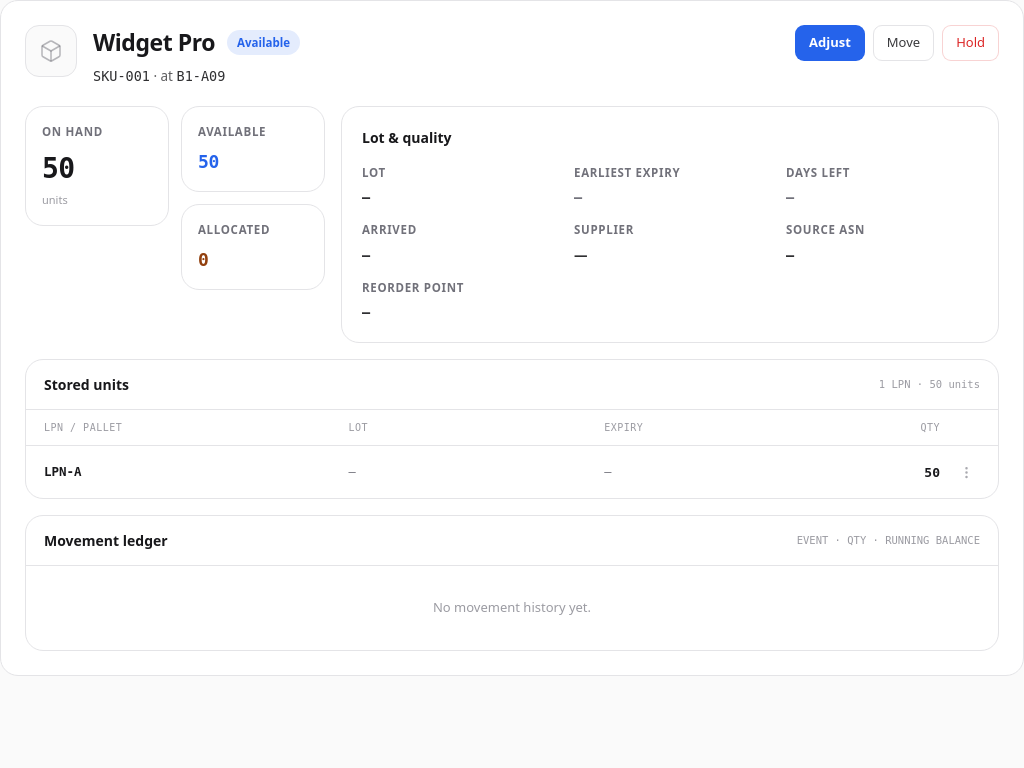
Test: InventoryDetail — unit-load actions (change owner / carrier) › does not offer an INACTIVE client as a change-owner target
The image size is (1024, 768).
What coordinates should you click on to do the following:
click the button named "unit load actions"
I would click on:
 (966, 472)
Its box is x1=952 y1=458 x2=980 y2=486.
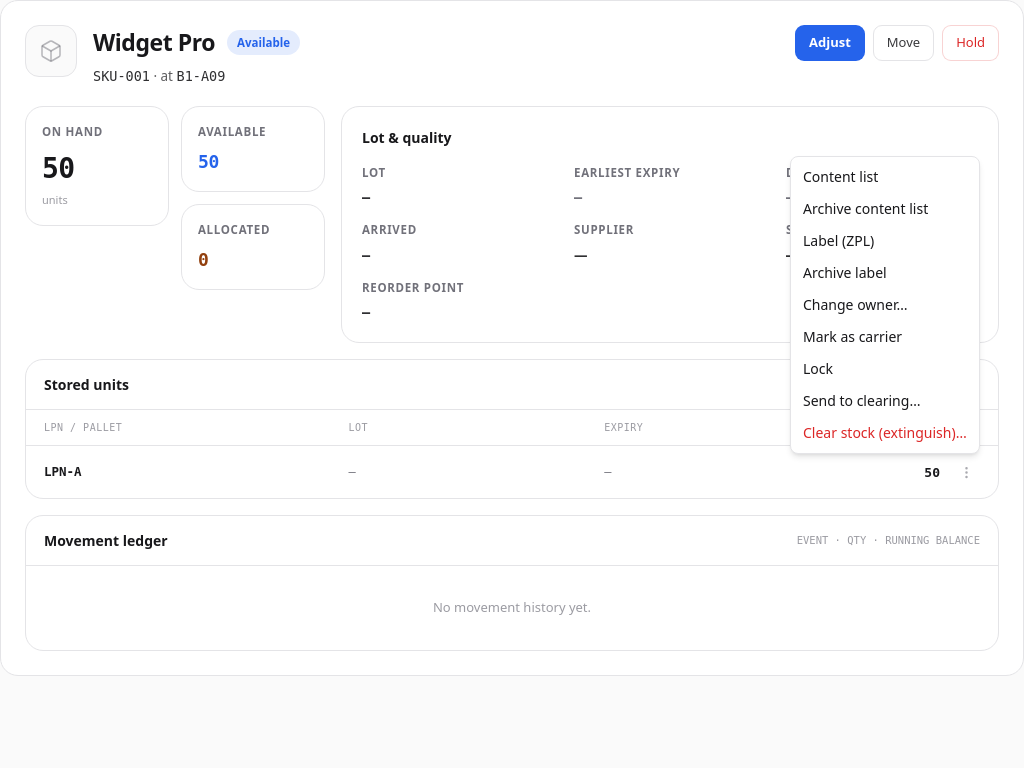
What coordinates should you click on to do the following:
click the menu item "Change owner…"
I would click on:
 (855, 304)
Its box is x1=803 y1=295 x2=908 y2=314.
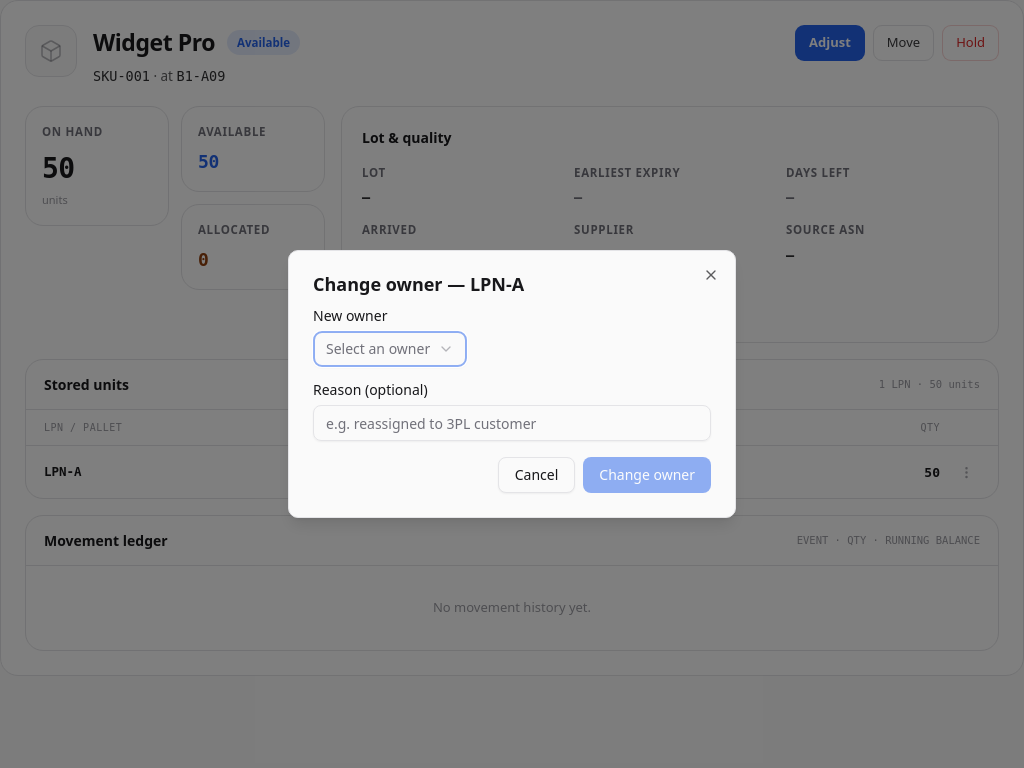
What coordinates should you click on to do the following:
click the dropdown
I would click on:
 (390, 349)
Its box is x1=313 y1=331 x2=467 y2=367.
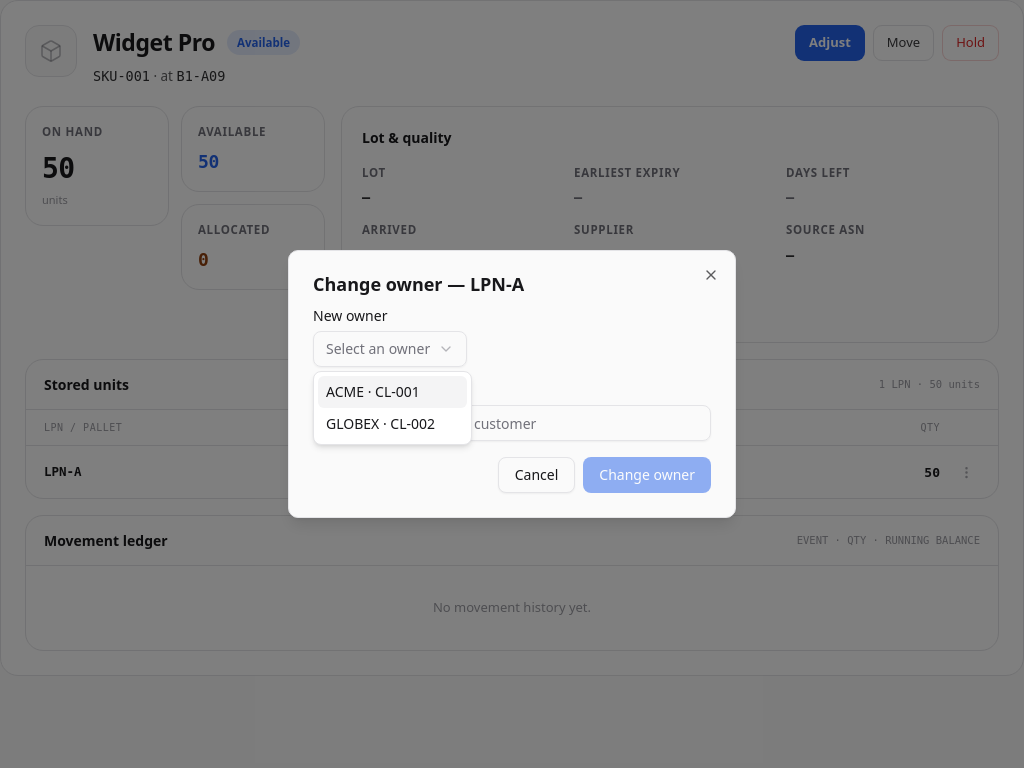
Expected: the text "ACME · CL-001" is shown, x1=326 y1=382 x2=420 y2=402
